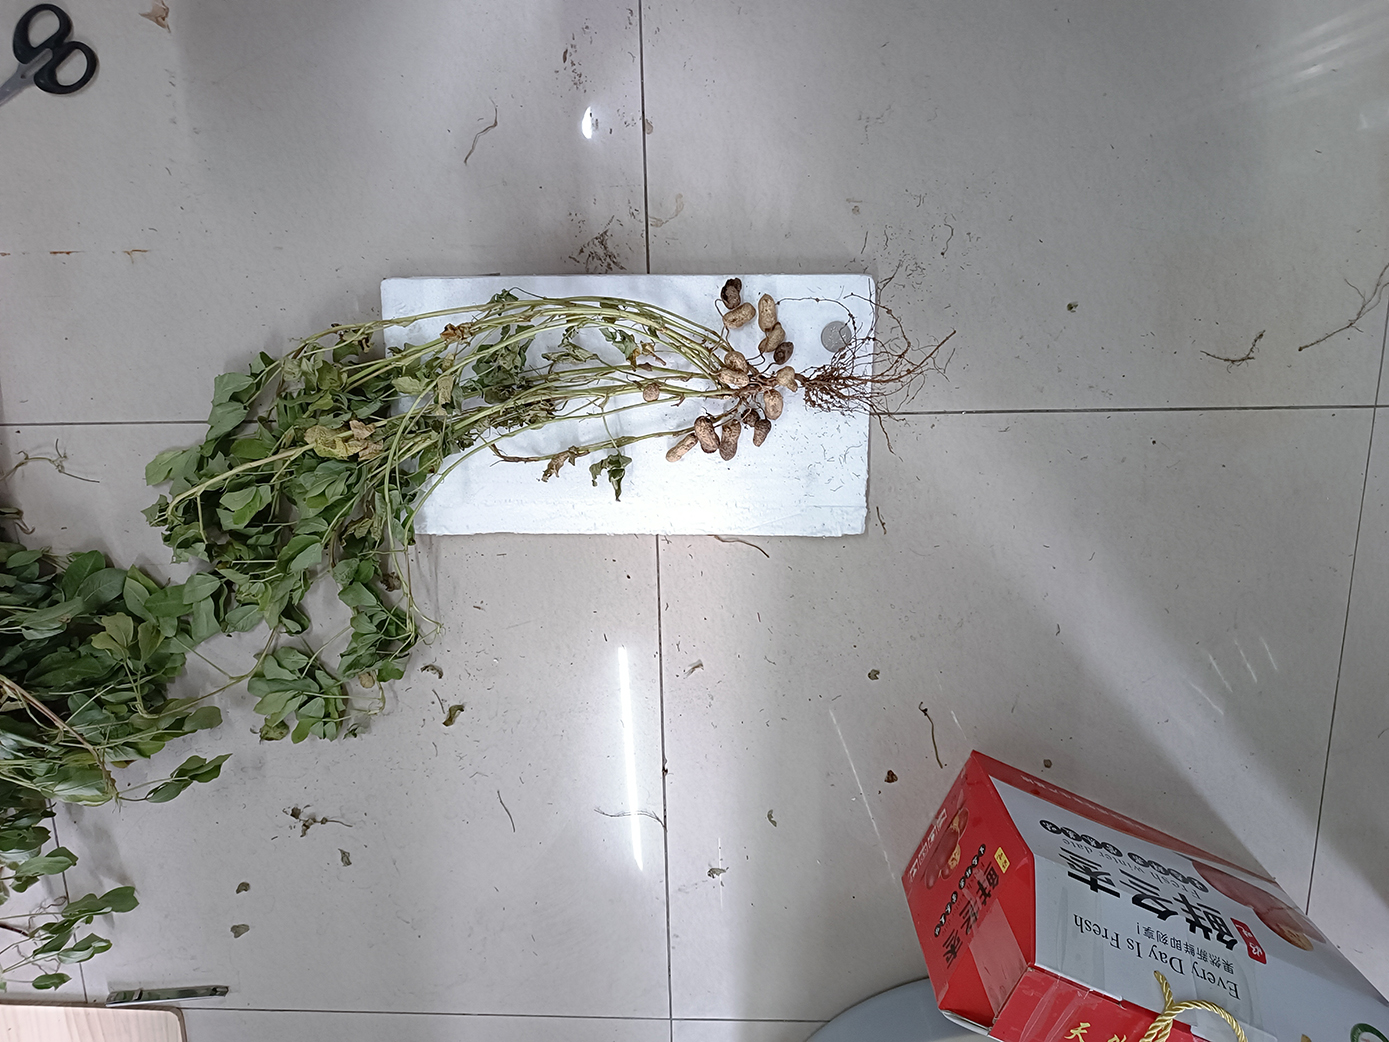h: (665, 433, 696, 461), (724, 303, 755, 329), (760, 323, 785, 352), (759, 293, 776, 332), (718, 367, 746, 387), (763, 389, 782, 419), (777, 366, 798, 392), (724, 350, 748, 372), (643, 383, 660, 402)
l: (696, 416, 720, 453), (719, 418, 740, 461), (721, 277, 743, 309), (752, 418, 771, 447), (773, 341, 794, 364), (742, 408, 759, 425)
